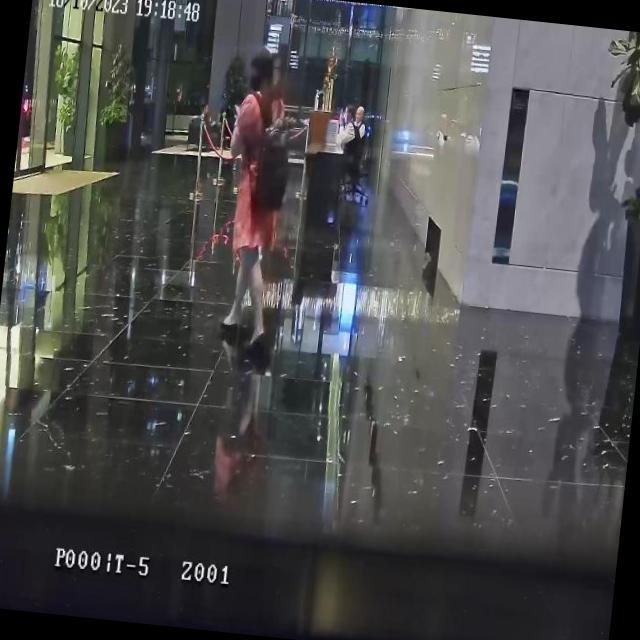person: (209, 46, 297, 348), (334, 103, 364, 172), (198, 98, 224, 128), (350, 104, 368, 140)
